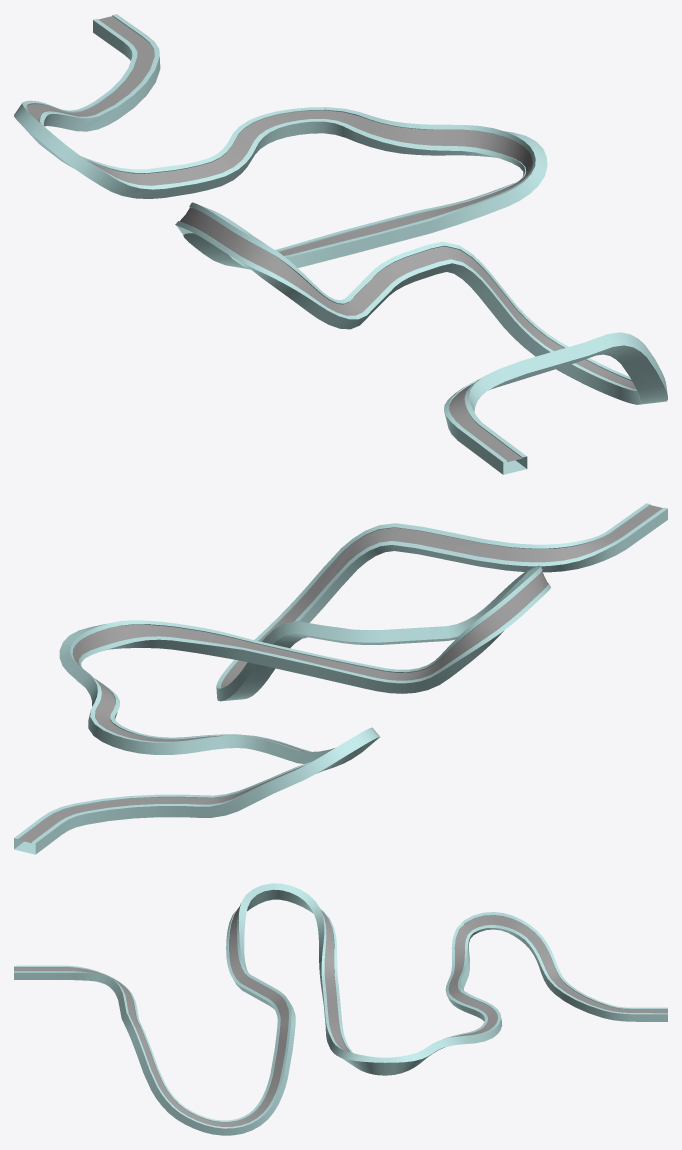
3 renders of one model, top to bottom at view 1: azimuth 30°, elevation 25°; view 2: azimuth 150°, elevation 25°; view 3: azimuth 270°, elevation 25°, orthographic. The views are drawn at different scales.
Visible parts, largest first — view 1: hz2; view 2: hz2; view 3: hz2.
Part boxes in pixels (x1,y1,x2,y2): hz2: [14, 14, 667, 474]; hz2: [14, 503, 667, 854]; hz2: [14, 883, 667, 1135].
Size of the model in its own units: 3664 by 1980 by 8188.
